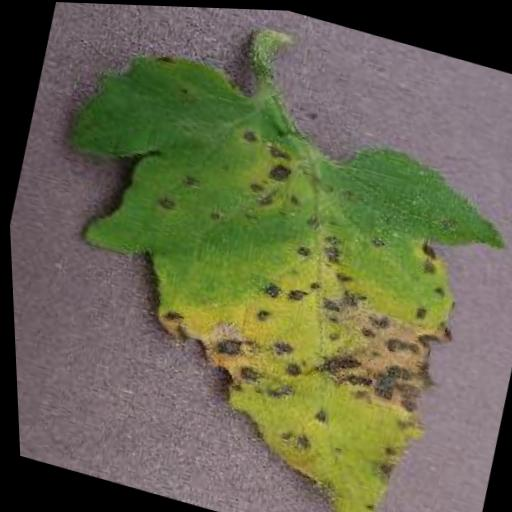Septoria: (1, 27, 512, 512)
